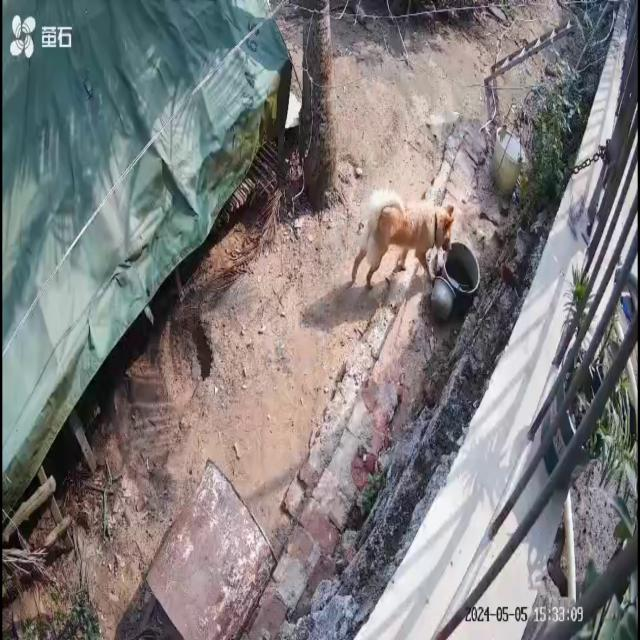dog: (352, 188, 456, 291)
